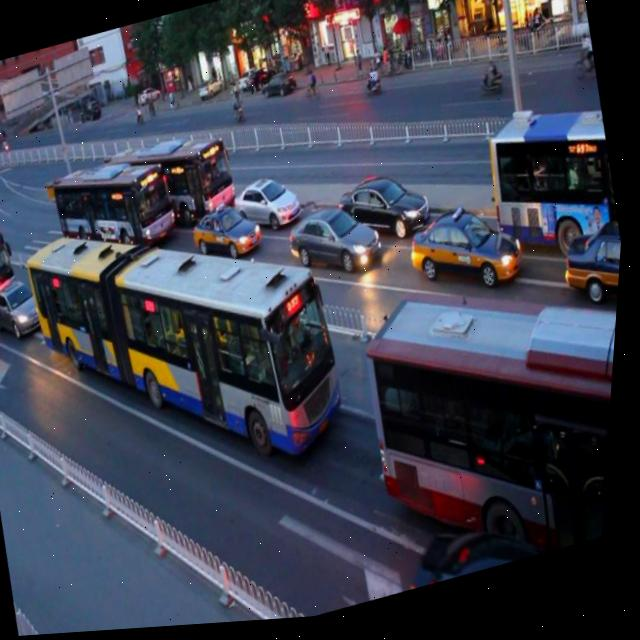car: (403, 193, 534, 317), (399, 508, 547, 598), (280, 191, 386, 293), (335, 161, 438, 255), (185, 191, 268, 273), (226, 163, 306, 244), (557, 219, 627, 311), (0, 269, 57, 344)
van: (9, 162, 369, 521), (348, 253, 625, 601), (475, 97, 630, 268), (44, 137, 186, 278), (103, 114, 245, 247), (0, 202, 23, 310)
